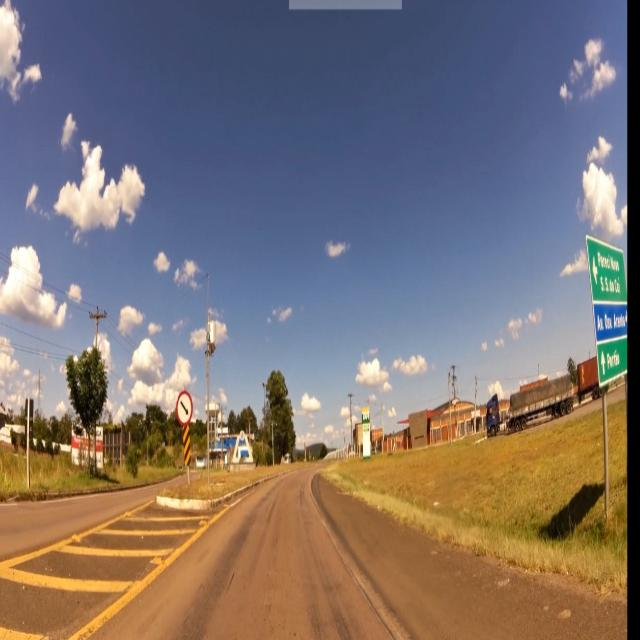MP: (182, 427, 193, 468)
R-24b: (174, 390, 194, 427)
